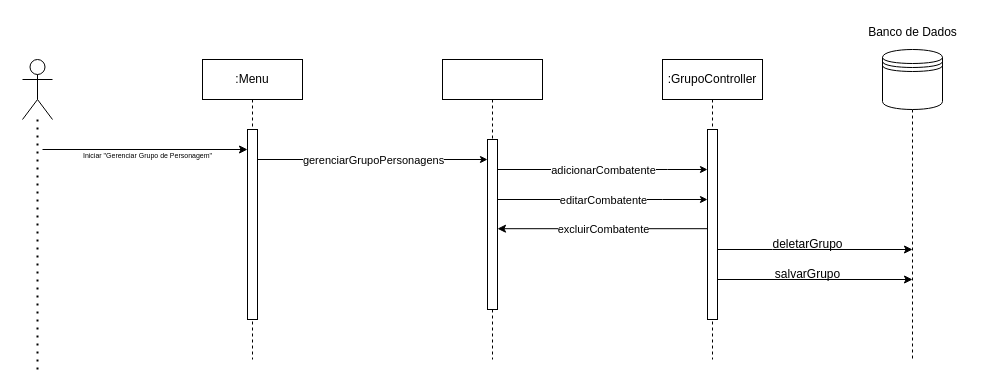
This 985x388 diagram has some shape labels left out. The box of each missing label's shape, as (x1, y1, x2, y2) in pixels:
:Grupo: (442, 58, 542, 360)
Usuário: (22, 58, 52, 120)
